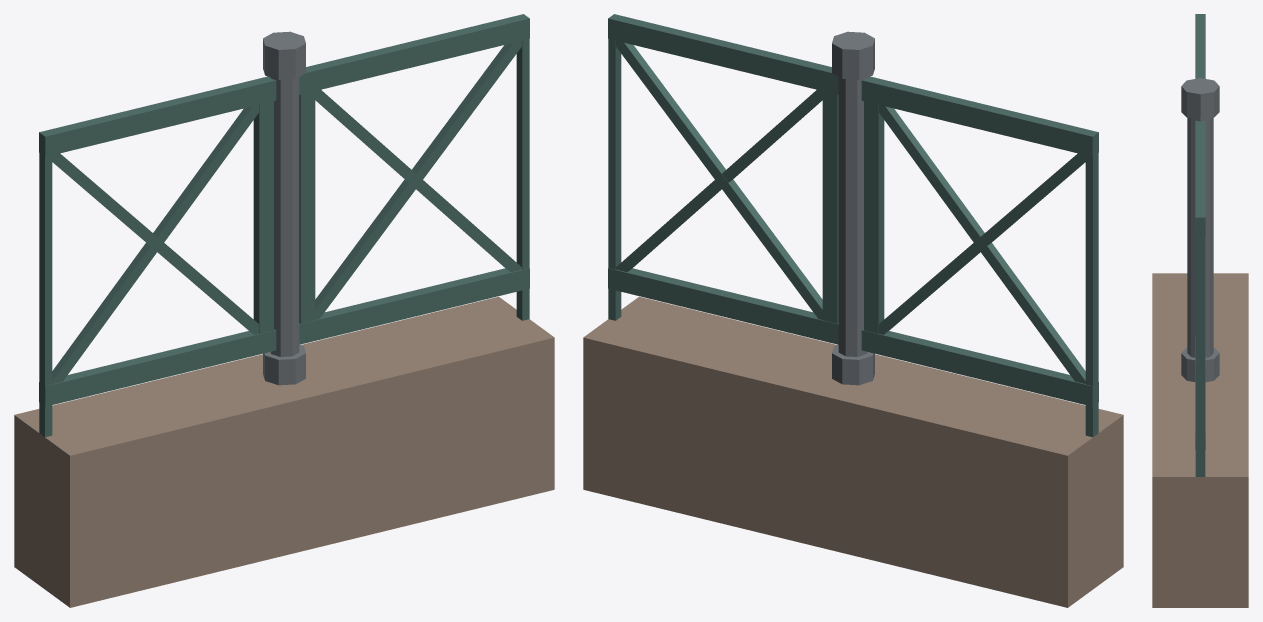
The model's file is Fence_01.fbx.
3 views of the same model, side by side, from view 1: azimuth 30°, elevation 25°; view 2: azimuth 150°, elevation 25°; view 3: azimuth 270°, elevation 25° (orthographic). The views are drawn at different scales.
Parts seen in each view (by area): view 1: Fence_01; view 2: Fence_01; view 3: Fence_01.
Part boxes in pixels (bbox=[...]): Fence_01: bbox=[14, 14, 554, 607]; Fence_01: bbox=[583, 14, 1123, 607]; Fence_01: bbox=[1152, 14, 1248, 607].
Bounding box in the file's own units: 100 × 96.12 × 20.
